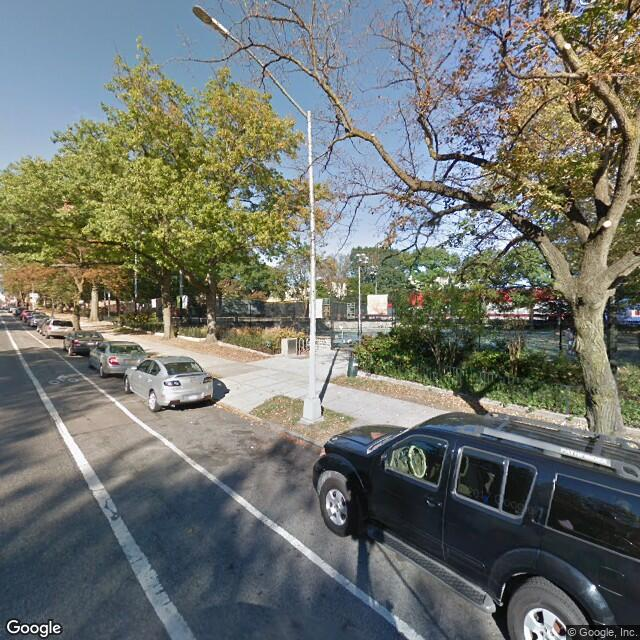litter: (233, 397, 309, 459)
